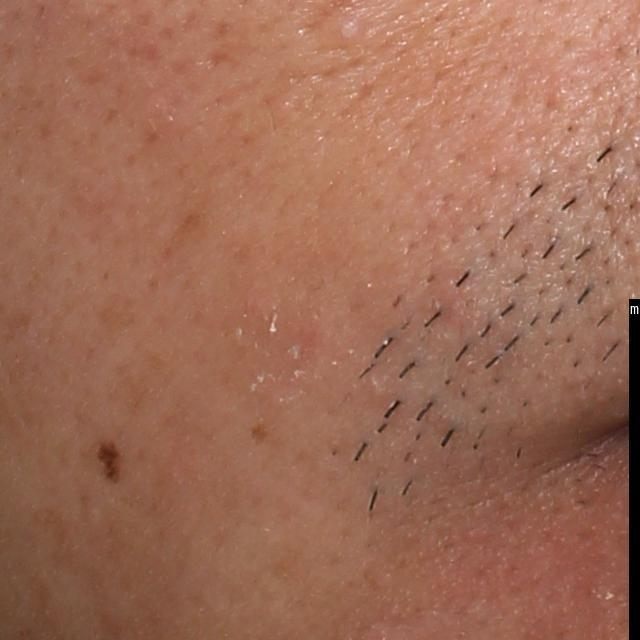nevus: (96, 439, 125, 487)
